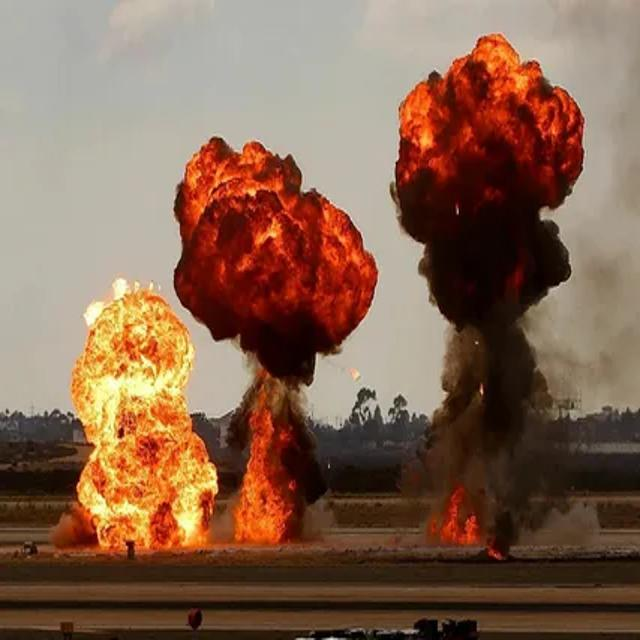Smoke: (394, 34, 576, 560), (173, 138, 379, 546)
